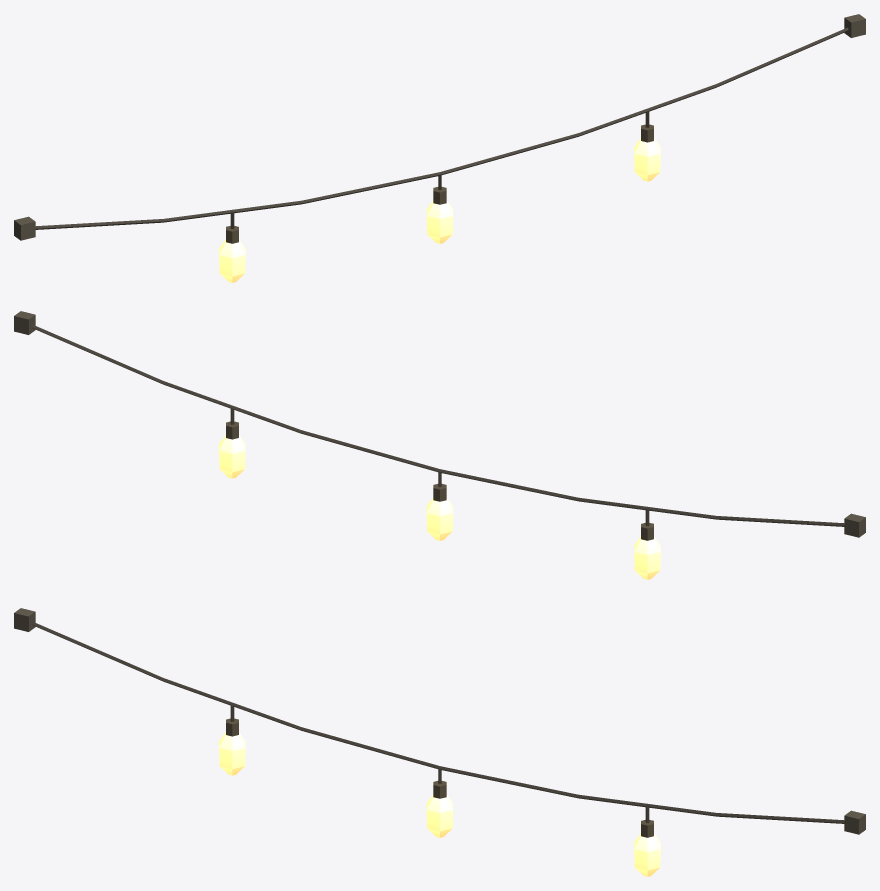
The model's file is string_lights_short.glb.
The picture shows the model from 3 angles, top to bottom: view 1: azimuth 30°, elevation 25°; view 2: azimuth 150°, elevation 25°; view 3: azimuth 330°, elevation 25°; orthographic projection.
Visible parts, largest first — view 1: winter_string_lights_short; view 2: winter_string_lights_short; view 3: winter_string_lights_short.
Boxes of the visible parts, box(x1,y1,x2,y2) form: winter_string_lights_short: box(14, 14, 865, 282); winter_string_lights_short: box(14, 311, 865, 579); winter_string_lights_short: box(14, 608, 865, 876).
Bounding box in the file's own units: 2.85 × 0.395 × 0.0779.
2 materials, 2 textured.
